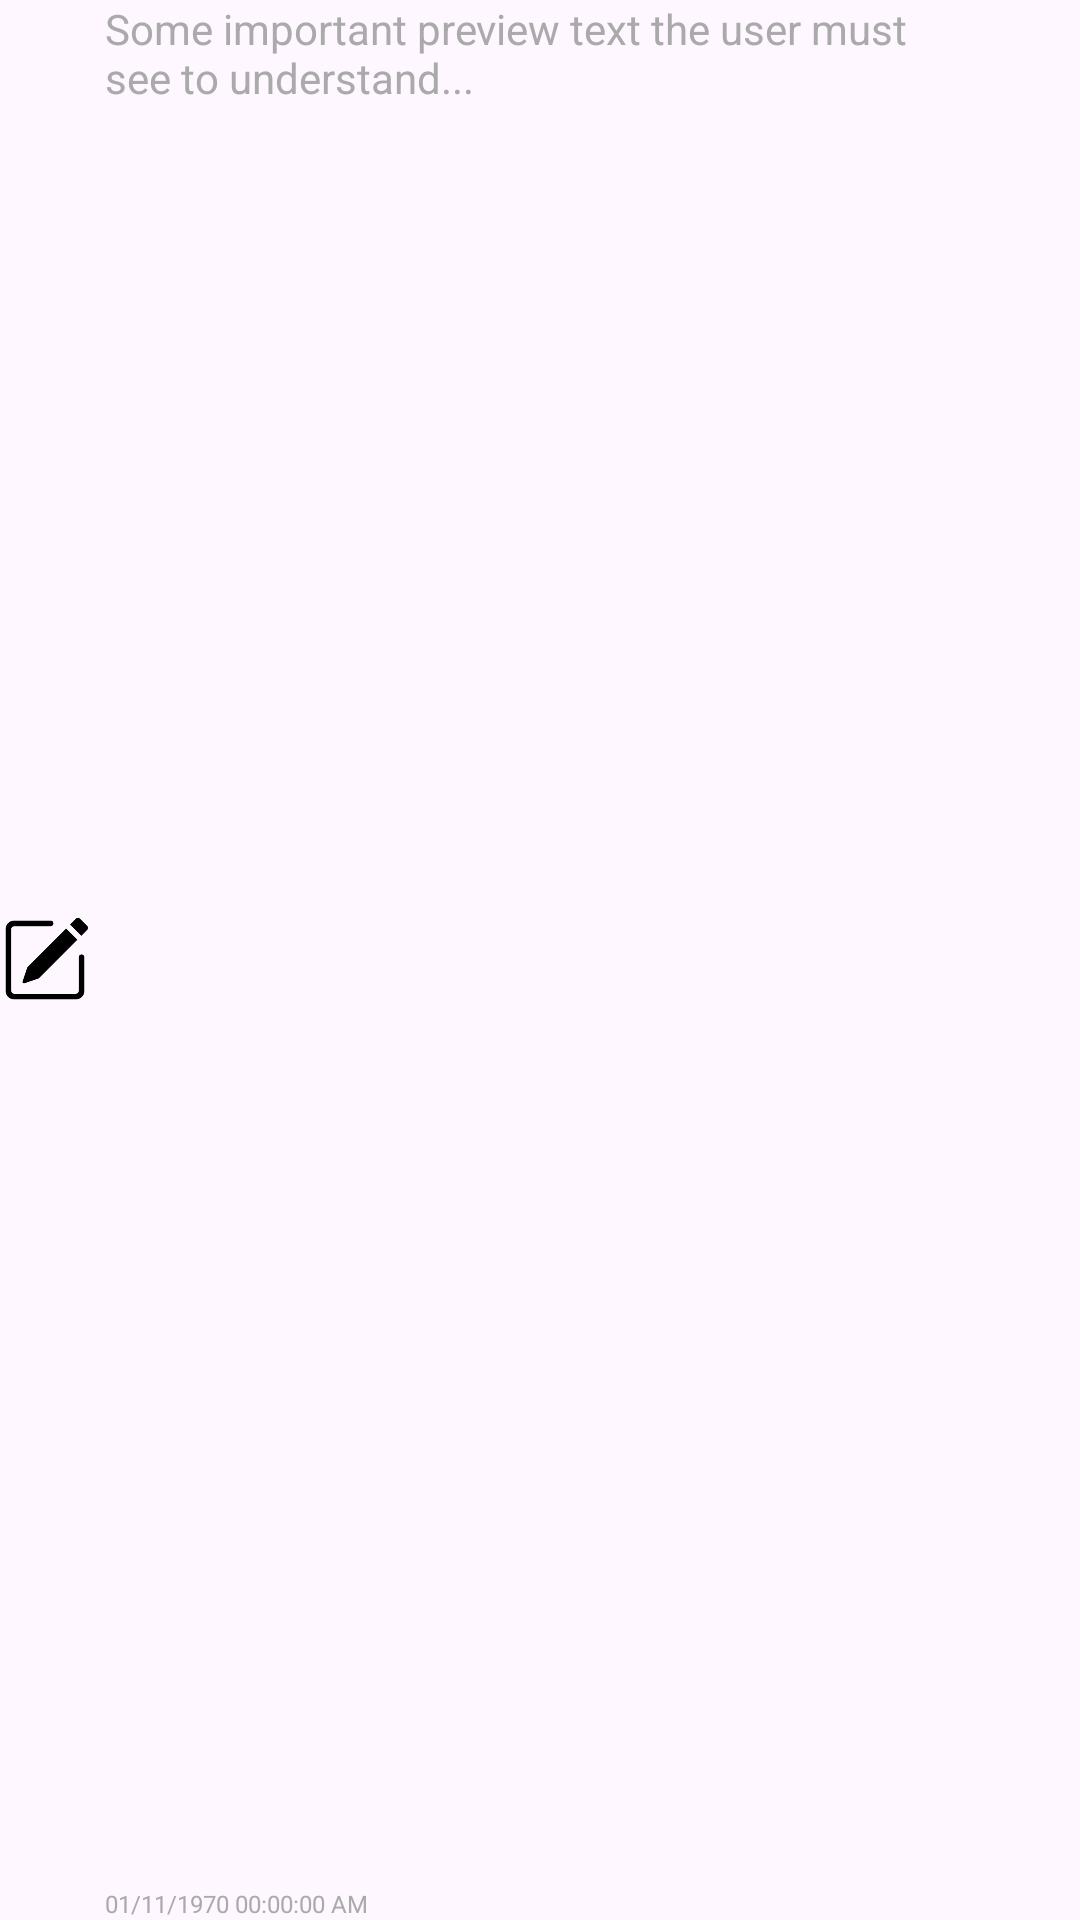

Icon click points for this 1080*1920 phone screenshot, format (x,y):
note: (46,959)
